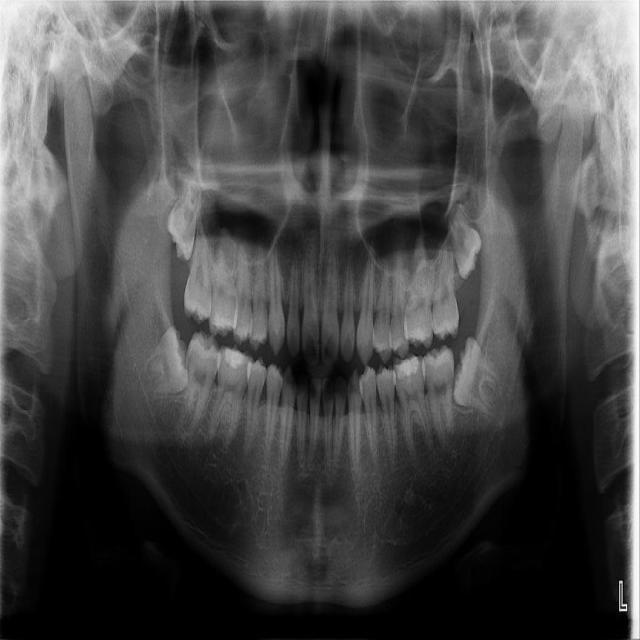3M ESPE Implant: (161, 181, 204, 262)
52: (392, 354, 423, 382), (219, 342, 247, 371), (208, 310, 235, 334), (408, 322, 429, 343)
73: (618, 588, 628, 607)
BioHorizons Implant: (424, 235, 460, 342)
BioLife Implant: (445, 203, 487, 281)
Biomet 3i Implant: (445, 335, 510, 419)
Blue Sky Bio Implant: (420, 345, 455, 451)
Caries: (183, 212, 214, 325)
Implant: (172, 329, 225, 434)
Keystone Dental Implant: (139, 323, 192, 398)
